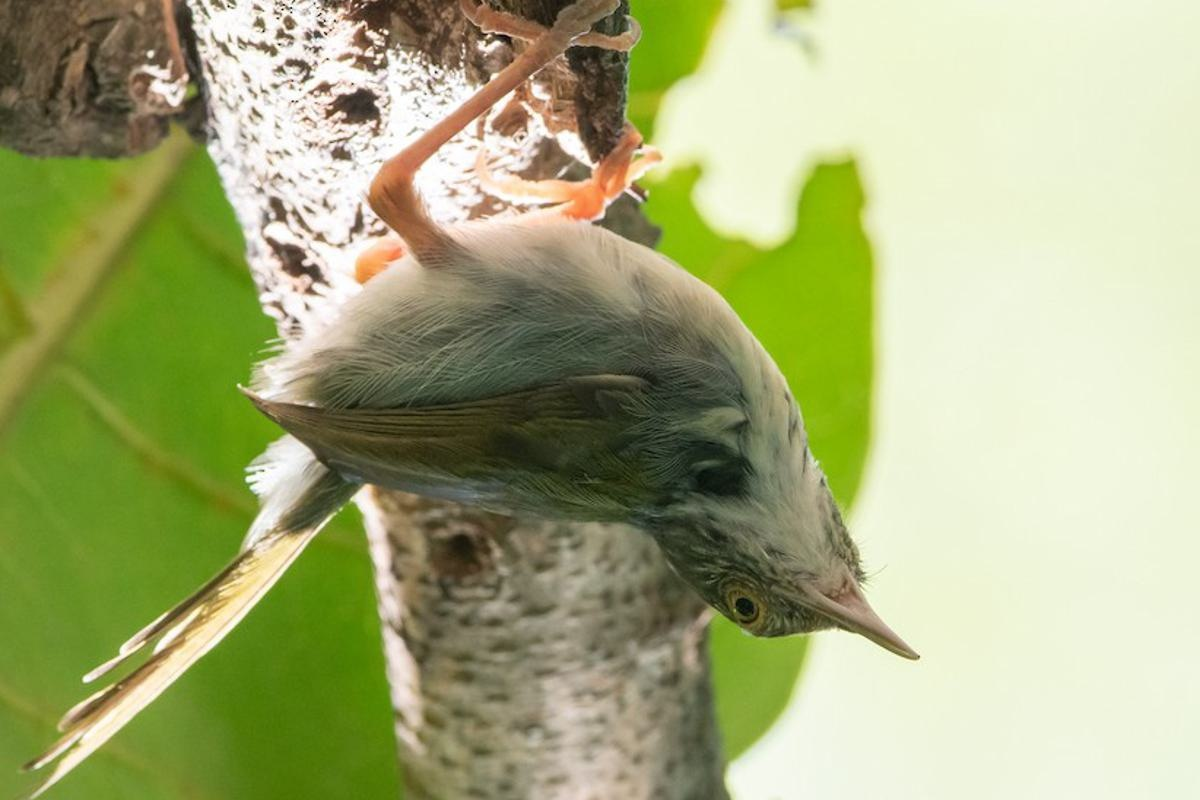tailorbird: (69, 96, 956, 746)
